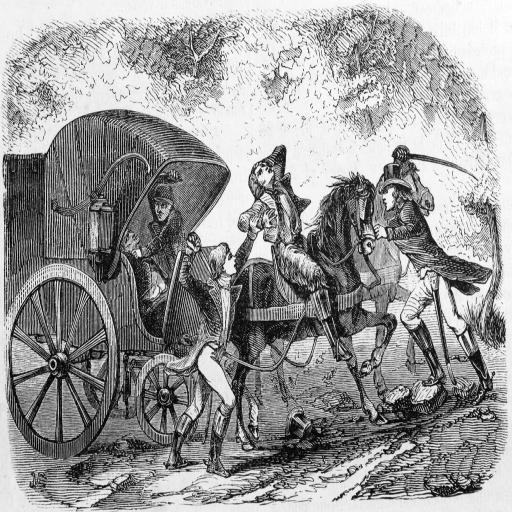horse: (227, 172, 399, 452)
